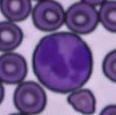E: (33, 32, 93, 93)
